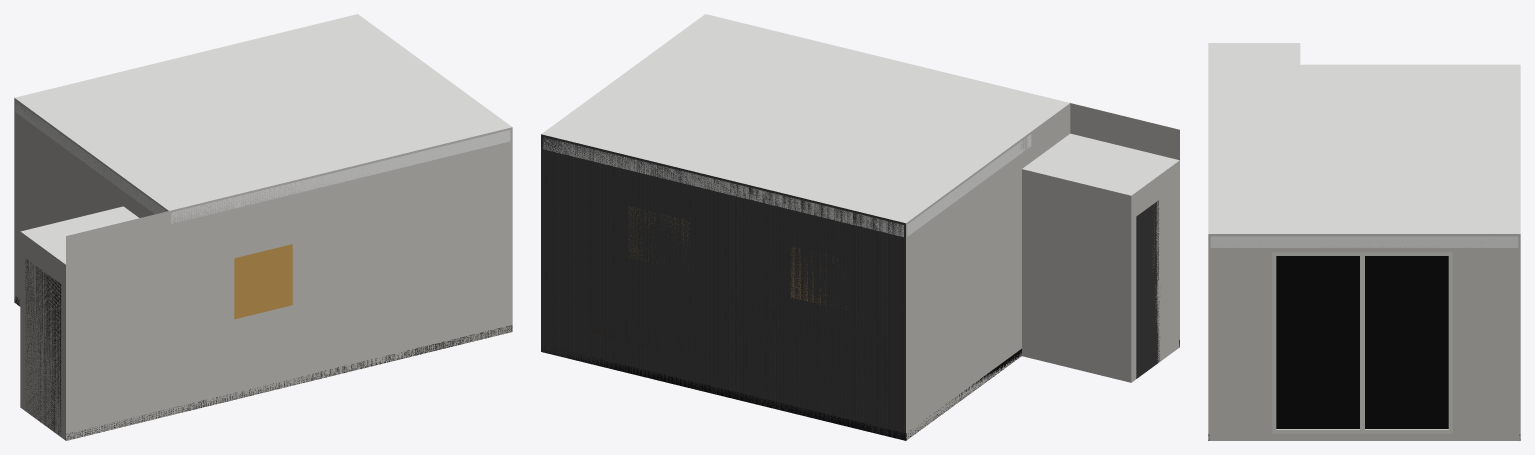
File: room.glb
3 views of the same model, side by side, from view 1: azimuth 30°, elevation 25°; view 2: azimuth 150°, elevation 25°; view 3: azimuth 270°, elevation 25° (orthographic). The views are drawn at different scales.
Visible parts, largest first — view 1: Room; view 2: Room; view 3: Room.
Part boxes in pixels (box(x1,y1,x2,y2)): Room: box(14, 14, 512, 440); Room: box(541, 14, 1179, 440); Room: box(1208, 43, 1520, 440).
Size of the model in its own units: 6.5 by 2.85 by 3.9.
26 materials, 13 textured.
